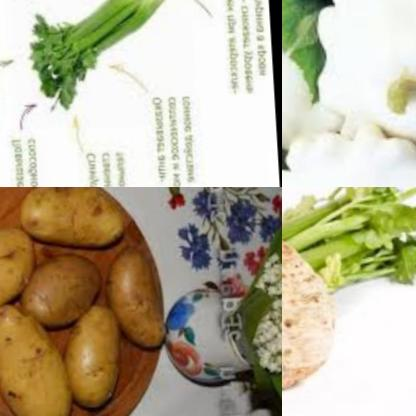celery: (282, 187, 416, 366), (11, 0, 180, 118)
potato: (10, 187, 136, 252), (0, 306, 73, 416), (103, 249, 175, 359), (15, 256, 103, 338), (67, 304, 126, 416), (0, 226, 38, 330)
squash-patisson: (295, 0, 416, 176), (282, 0, 328, 169), (282, 134, 416, 187)
